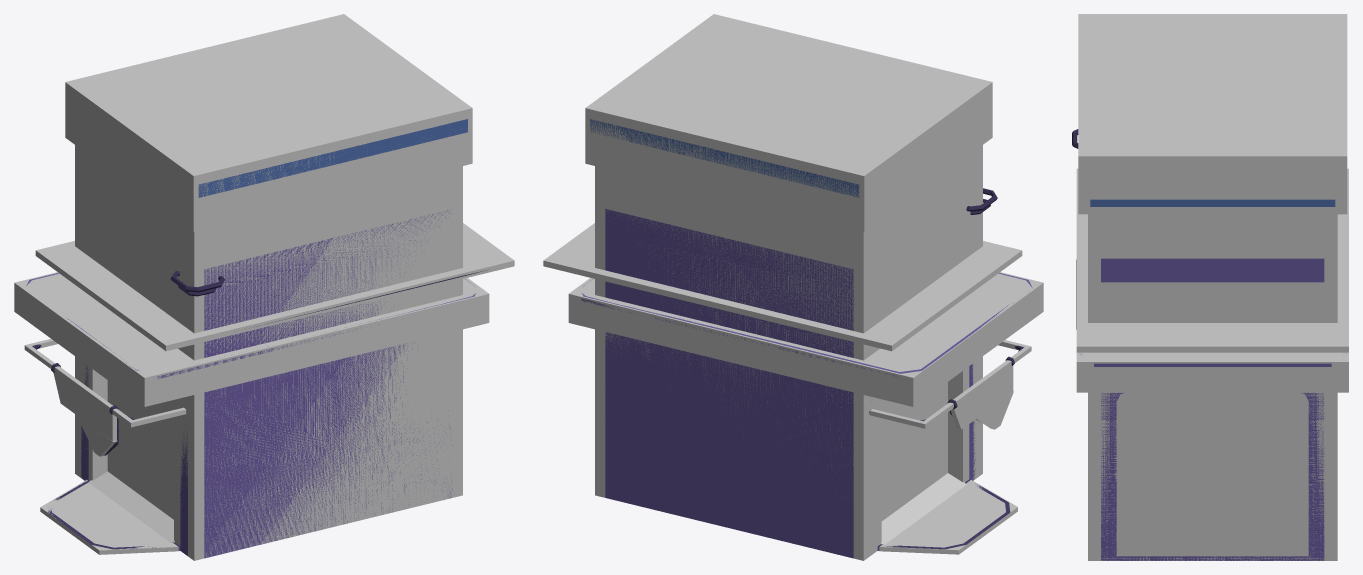
File: SM_Building_02_Base.fbx
3 views of the same model, side by side, from view 1: azimuth 30°, elevation 25°; view 2: azimuth 150°, elevation 25°; view 3: azimuth 270°, elevation 25° (orthographic). The views are drawn at different scales.
Parts seen in each view (by area): view 1: SM_Building_02_Base_ConvexHulls, SM_Building_02_Base; view 2: SM_Building_02_Base_ConvexHulls, SM_Building_02_Base; view 3: SM_Building_02_Base_ConvexHulls, SM_Building_02_Base.
Boxes of the visible parts, box(x1,y1,x2,y2) form: SM_Building_02_Base_ConvexHulls: box(14, 14, 514, 560); SM_Building_02_Base: box(26, 119, 487, 558); SM_Building_02_Base_ConvexHulls: box(543, 14, 1043, 560); SM_Building_02_Base: box(581, 119, 1032, 558); SM_Building_02_Base_ConvexHulls: box(1076, 14, 1348, 560); SM_Building_02_Base: box(1072, 129, 1346, 560).
Size of the model in its own units: 919 by 555 by 900.
2 materials, 1 textured.
